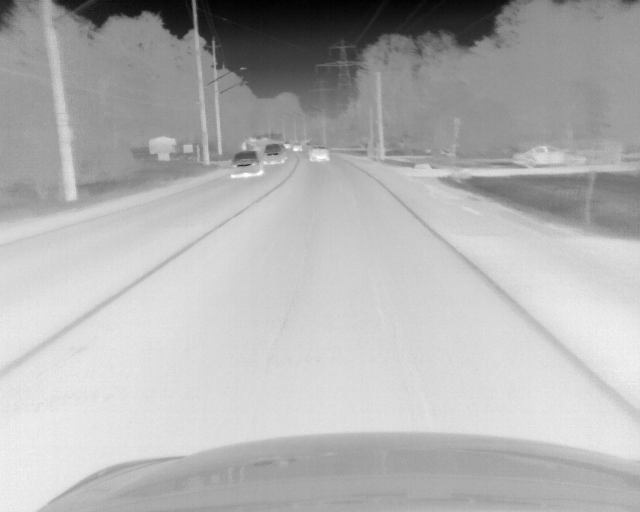car: (512, 146, 579, 170), (231, 150, 263, 177), (262, 143, 287, 165), (307, 145, 329, 164), (293, 143, 302, 151)
